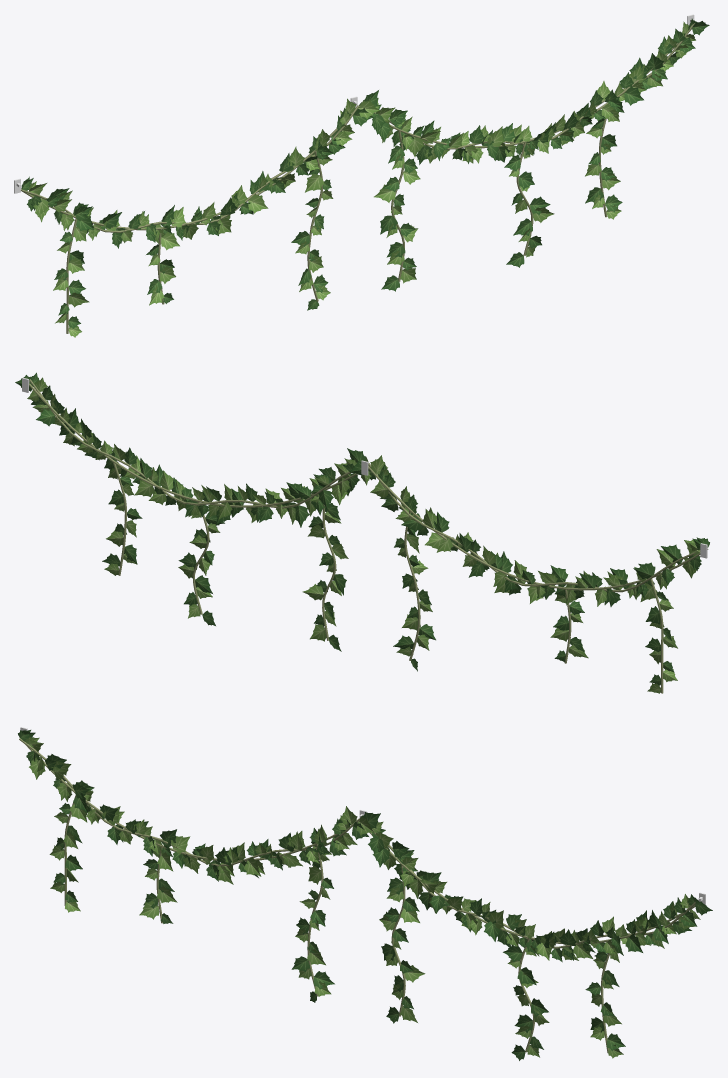
Rendered from obj-ivy-garland.glb.
3 views of the same model, one above another, from view 1: azimuth 30°, elevation 25°; view 2: azimuth 150°, elevation 25°; view 3: azimuth 330°, elevation 25° (orthographic).
Visible parts, largest first — view 1: obj-ivy-garland; view 2: obj-ivy-garland; view 3: obj-ivy-garland.
Part boxes in pixels (left/top/right/bottom): obj-ivy-garland: left=14, top=14, right=709, bottom=337; obj-ivy-garland: left=15, top=372, right=709, bottom=693; obj-ivy-garland: left=18, top=727, right=712, bottom=1060.
Bounding box in the file's own units: 1.55 × 0.4777 × 0.0506.
4 materials, 2 textured.
